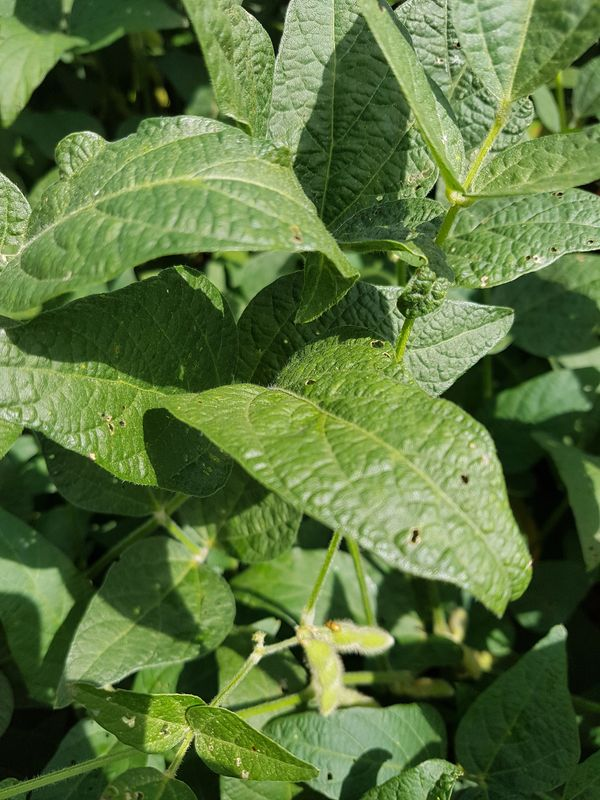Diabrotica_speciosa: (320, 616, 346, 637)
